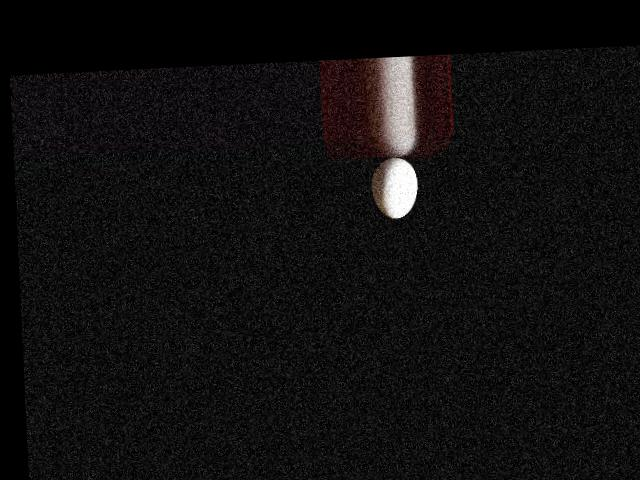egg: (371, 156, 419, 219)
